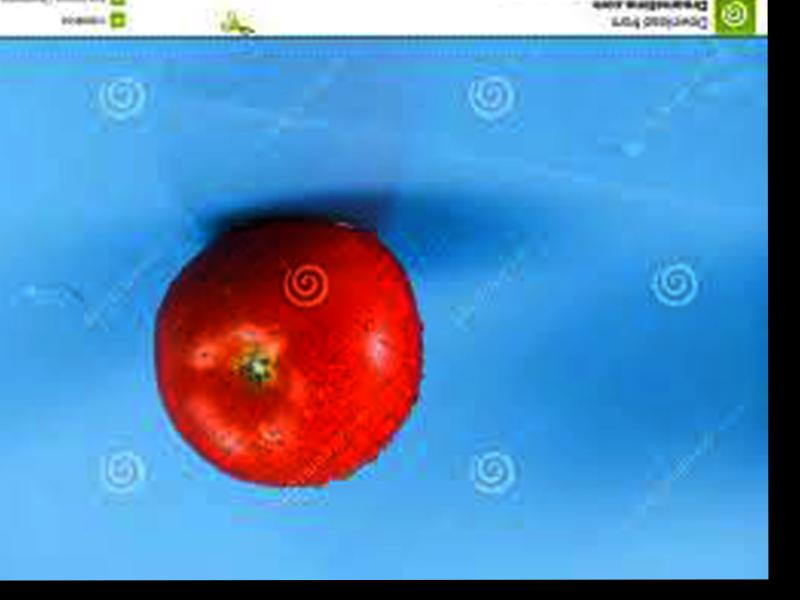Tomato: (150, 221, 422, 486)
